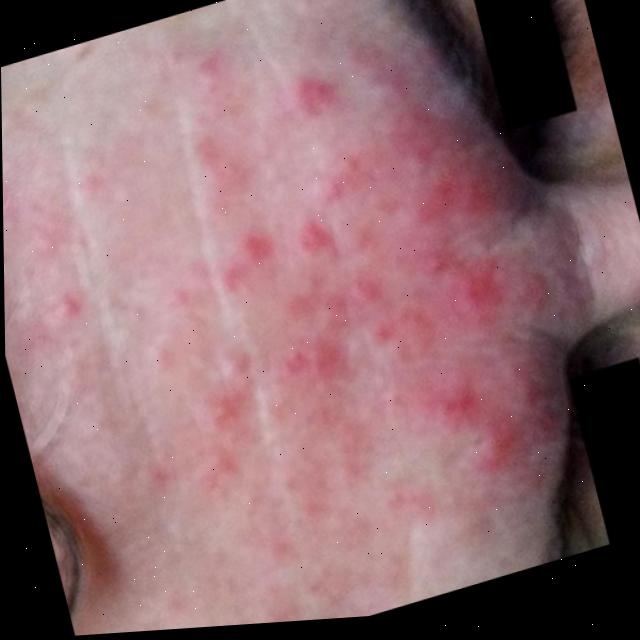Rosacea: (104, 0, 587, 633)
